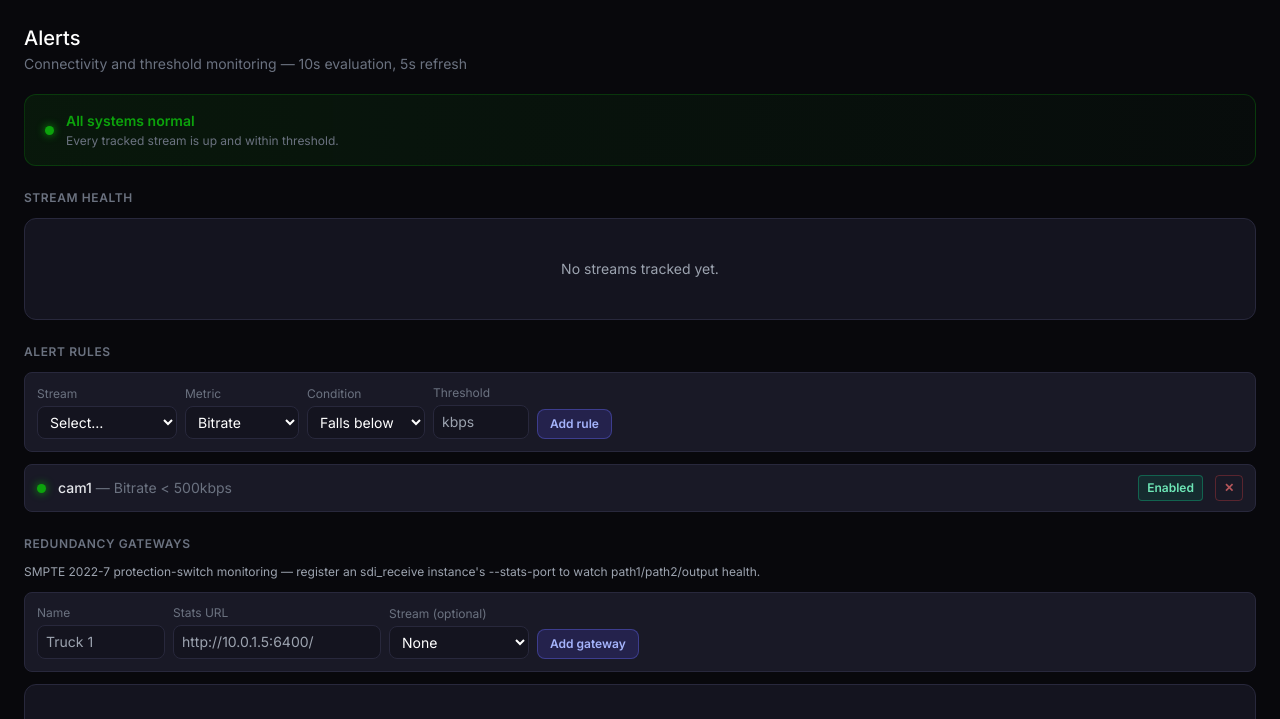
Test: AlertsPage — alert rules › shows an error toast when toggling a rule fails
Expected: the text "cam1" is shown, top-left (58, 479), bottom-right (92, 496)
What coordinates should you click on to do the following:
click the button "Enabled"
I would click on:
 (1171, 488)
Its box is top-left (1138, 475), bottom-right (1203, 501).
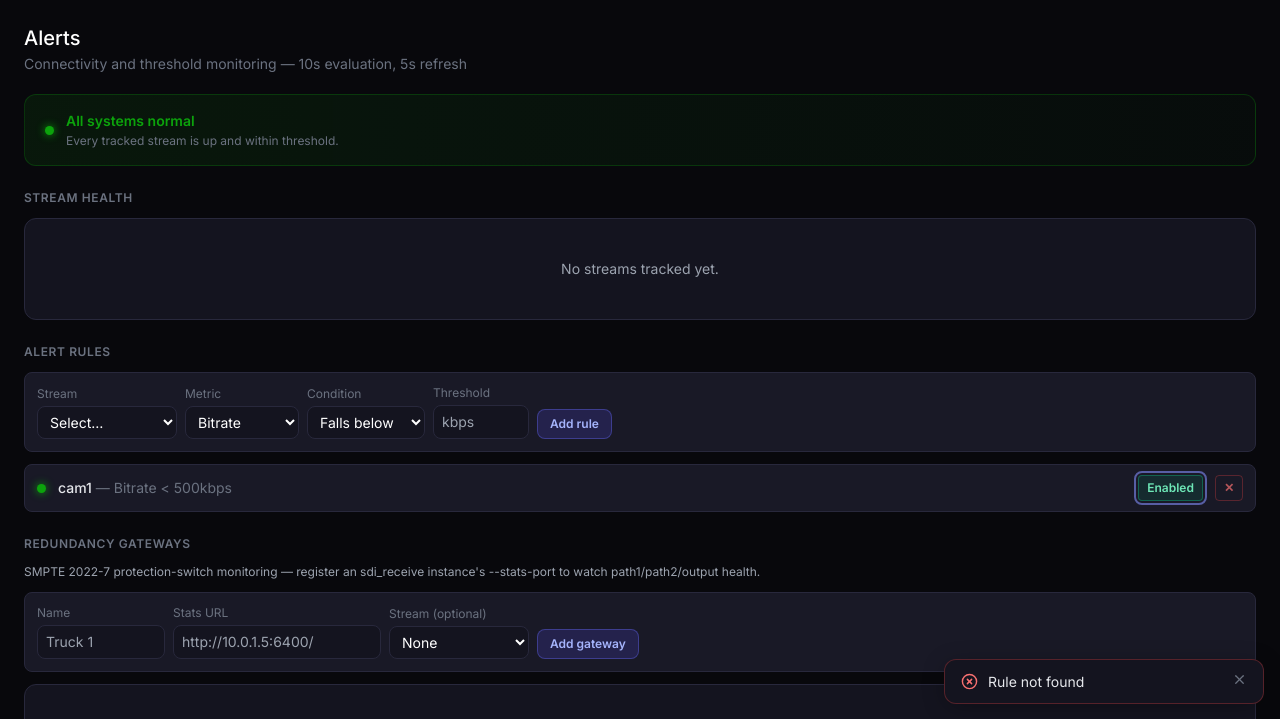
Expected: the text "Rule not found" is shown, top-left (988, 673), bottom-right (1084, 690)
